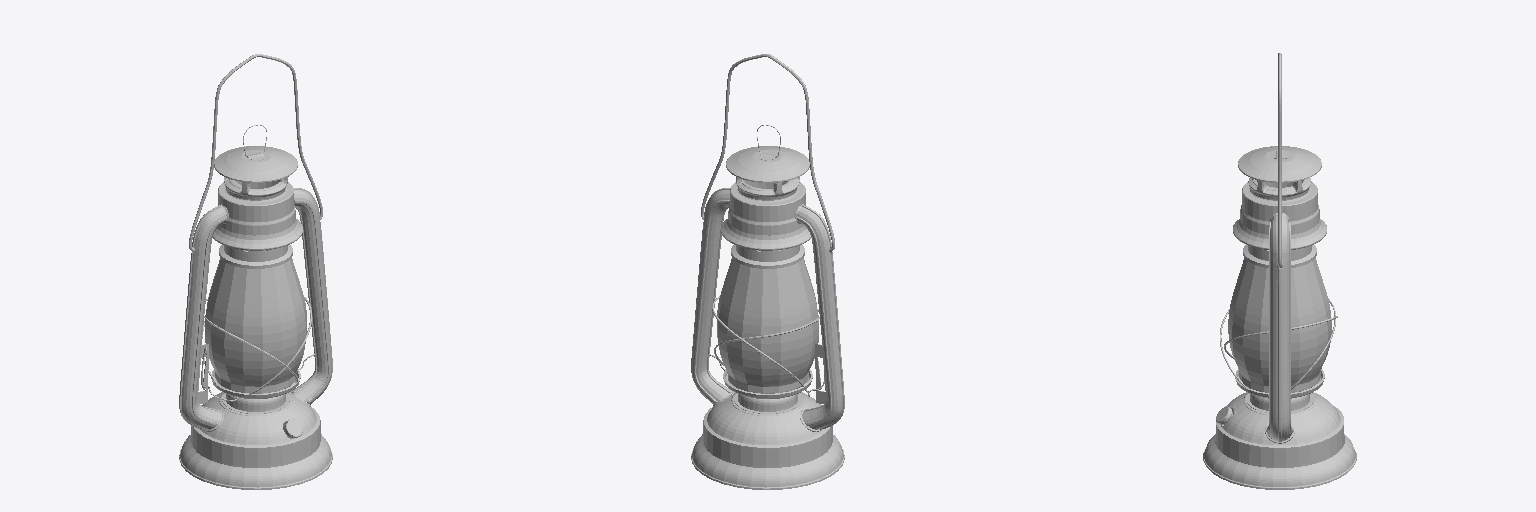
Rendered from bronze_lantern.obj.
3 views of the same model, side by side, from view 1: azimuth 30°, elevation 25°; view 2: azimuth 150°, elevation 25°; view 3: azimuth 270°, elevation 25° (orthographic).
Parts seen in each view (by area): view 1: Body, Glass; view 2: Body, Glass; view 3: Body, Glass.
Part boxes in pixels (bbox=[...]): Body: bbox=[179, 54, 332, 489]; Glass: bbox=[205, 250, 306, 393]; Body: bbox=[691, 54, 844, 489]; Glass: bbox=[717, 250, 818, 393]; Body: bbox=[1203, 53, 1356, 489]; Glass: bbox=[1228, 258, 1331, 392].
Size of the model in its own units: 1.7 by 4.28 by 1.47.